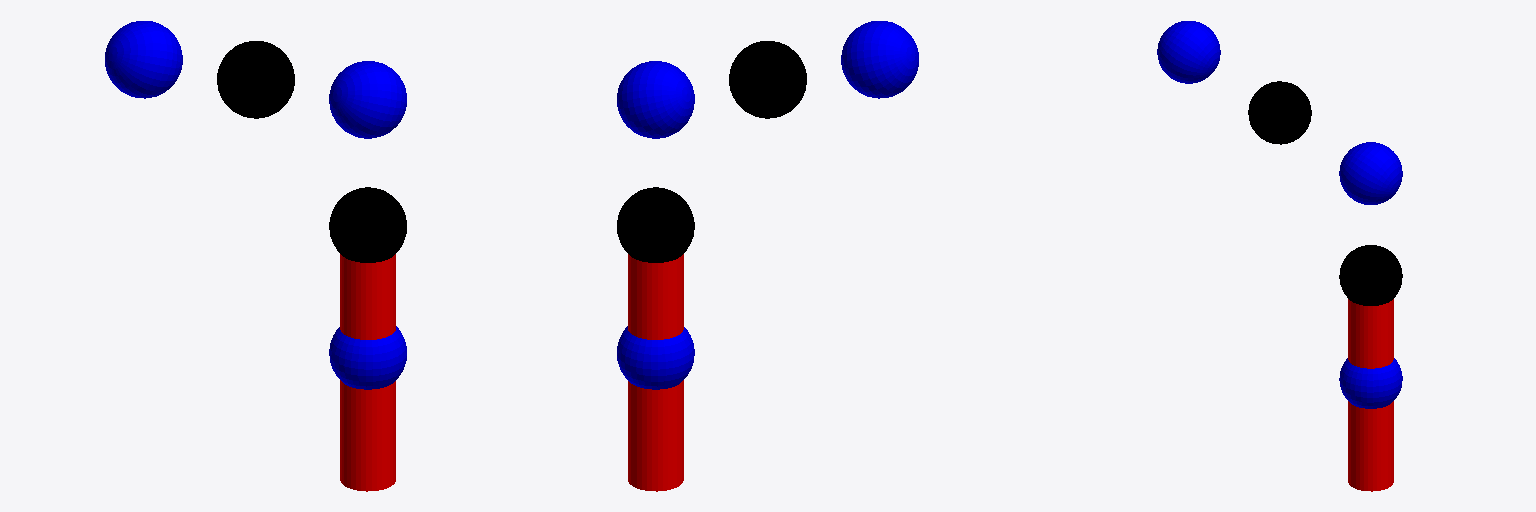
robot.urdf — leg:
<?xml version='1.0' encoding='utf-8'?>
<robot name="leg">

    <link name="link0">
      <inertial>
        <origin xyz="0 -0.2 0" rpy="0 0 0" />
        <mass value="4" />
        <inertia ixx="0.4" iyy="0.4" izz="0.4" ixy="0" ixz="0" iyz="0" />
      </inertial>
      <visual>
        <origin xyz="0 -0.2 0" rpy="-1.57 0 0" />
        <geometry>
          <mesh filename="../../../model/panda/meshes/visual/link0.obj"/>
        </geometry>
      </visual>
      <!-- <collision>
        <geometry>
          <mesh filename="../../../model/panda/meshes/collision/link0.obj"/>
        </geometry>
      </collision> -->
    </link>
    <link name="link1">
      <inertial>
        <origin xyz="0 0 0.25" rpy="0 0 0" />
        <mass value="1" />
        <inertia ixx="0.3" iyy="0.3" izz="0.3" ixy="0" ixz="0" iyz="0" />
      </inertial>
      <visual>
        <origin xyz="0 0 0" rpy="0 0 0" />
        <geometry>
          <sphere radius="0.07"/>
        </geometry>
        <material name="blue">
          <color rgba="0 0 1 1"/>
        </material>
      </visual>
      <visual>
        <origin xyz="0 0 0.25" rpy="0 0 0" />
        <geometry>
          <sphere radius="0.07"/>
        </geometry>
        <material name="blue">
          <color rgba="0 0 0 1"/>
        </material>
      </visual>
      <visual>
        <origin xyz="0 0 0" rpy="0 0 0"/>
        <geometry>
          <cylinder radius="0.05" length="0.5"/>
        </geometry>
        <material name="red">
          <color rgba="1 0 0 1"/>
        </material>
      </visual>
      <collision>
        <origin xyz="0 0 0" rpy="0 0 0" />
        <geometry>
          <cylinder radius="0.05" length="0.5"/>
        </geometry>
      </collision>
    </link>
    <link name="link2">
      <inertial>
        <origin xyz="0 0 0.25" rpy="0 0 0" />
        <mass value="1" />
        <inertia ixx="0.3" iyy="0.3" izz="0.3" ixy="0" ixz="0" iyz="0" />
      </inertial>
      <visual>
        <origin xyz="0 0 0" rpy="0 0 0" />
        <geometry>
          <sphere radius="0.07"/>
        </geometry>
        <material name="blue">
          <color rgba="0 0 1 1"/>
        </material>
      </visual>
      <visual>
        <origin xyz="0 0 0.5" rpy="0 0 0" />
        <geometry>
          <sphere radius="0.07"/>
        </geometry>
        <material name="blue">
          <color rgba="0 0 1 1"/>
        </material>
      </visual>
      <visual>
        <origin xyz="0 0 0.25" rpy="0 0 0" />
        <geometry>
          <sphere radius="0.07"/>
        </geometry>
        <material name="blue">
          <color rgba="0 0 0 1"/>
        </material>
      </visual>
      <visual>
        <origin xyz="0 0 0" rpy="0 0 0" />
        <geometry>
          <!-- <cylinder radius="0.05" length="0.5"/> -->
          <mesh filename="../../../model/final_project/meshes/visual/footlink.obj"/>
        </geometry>
        <material name="green">
          <color rgba="0 1 0 1"/>
        </material>
      </visual>
      <collision>
        <origin xyz="0 0 0" rpy="0 0 0" />
        <geometry>
          <cylinder radius="0.05" length="0.5"/>
        </geometry>
      </collision>
    </link>

    <joint name="joint1" type="revolute">
      <safety_controller k_position="100.0" k_velocity="40.0" soft_lower_limit="-2.8973" soft_upper_limit="2.8973"/>
      <!-- <origin rpy="0 -1.57079632679 0" xyz="0.5 0 0.2"/> -->
      <origin rpy="0 0 0" xyz="0 0 0"/>
      <parent link="link0"/>
      <child link="link1"/>
      <axis xyz="0 1 0"/> <!-- negative y direction is rotational axis -->
      <limit effort="87" lower="-2.8973" upper="2.8973" velocity="2.1750"/>
    </joint>
    <joint name="joint2" type="revolute">
      <safety_controller k_position="100.0" k_velocity="40.0" soft_lower_limit="-1.7628" soft_upper_limit="1.7628"/>
      <origin rpy="0 0 0" xyz="0 0 0.5"/>
      <parent link="link1"/>
      <child link="link2"/>
      <axis xyz="0 1 0"/> <!-- negative y direction is rotational axis -->
      <limit effort="87" lower="-1.7628" upper="-0.61" velocity="2.1750"/>
    </joint>

</robot>

--- What the picture shows (computed from the rendered views, not written in the file) ---
3 views of the same robot in one strip: view 1: azimuth 30°, elevation 25°; view 2: azimuth 150°, elevation 25°; view 3: azimuth 330°, elevation 25° (orthographic).
Model leg with 3 links and 2 joints (2 revolute), rooted at link0, posed joints at zero except 1 at the middle of their limits (joint2 = -1.19).
Visible links, largest first — view 1: link1, link2; view 2: link1, link2; view 3: link1, link2.
Boxes of the visible links, left/top/right/bottom form: link1: left=329, top=187, right=406, bottom=491; link2: left=105, top=21, right=406, bottom=138; link1: left=617, top=187, right=694, bottom=491; link2: left=617, top=21, right=918, bottom=138; link1: left=1339, top=245, right=1402, bottom=491; link2: left=1157, top=21, right=1402, bottom=204.
Size in the robot's own frame: 0.6035 by 0.14 by 1.01 metres.
Geometry: only primitive shapes (box / cylinder / sphere) drawn; not drawn: 2 mesh visuals (reference in a form the renderer does not follow).